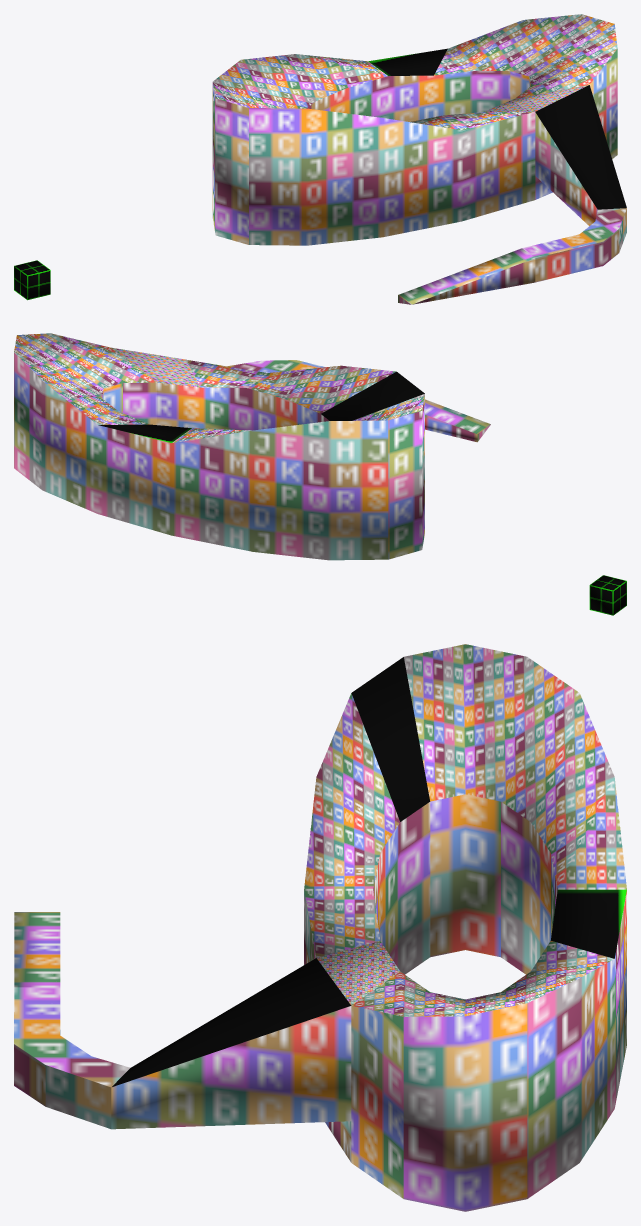
Rendered from course2.obj.
3 views of the same model, one above another, from view 1: azimuth 30°, elevation 25°; view 2: azimuth 150°, elevation 25°; view 3: azimuth 270°, elevation 25° (orthographic). The views are drawn at different scales.
Visible parts, largest first — view 1: Course, Cube4; view 2: Course, Cube4; view 3: Course.
Boxes of the visible parts, box(x1,y1,x2,y2) form: Course: box(212, 14, 626, 304); Cube4: box(14, 260, 50, 300); Course: box(14, 333, 490, 560); Cube4: box(589, 575, 626, 615); Course: box(14, 644, 626, 1211).
Bounding box in the file's own units: 50.89 × 12.22 × 26.58.
Materials: 2 (2 with a texture image).
